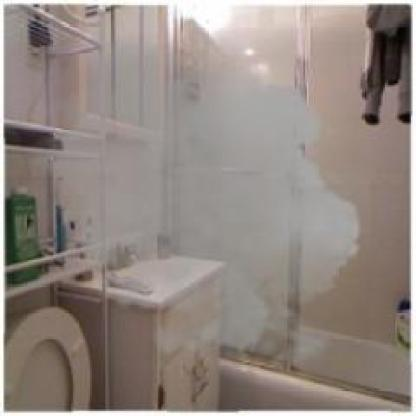Smoke: (18, 28, 372, 378)
